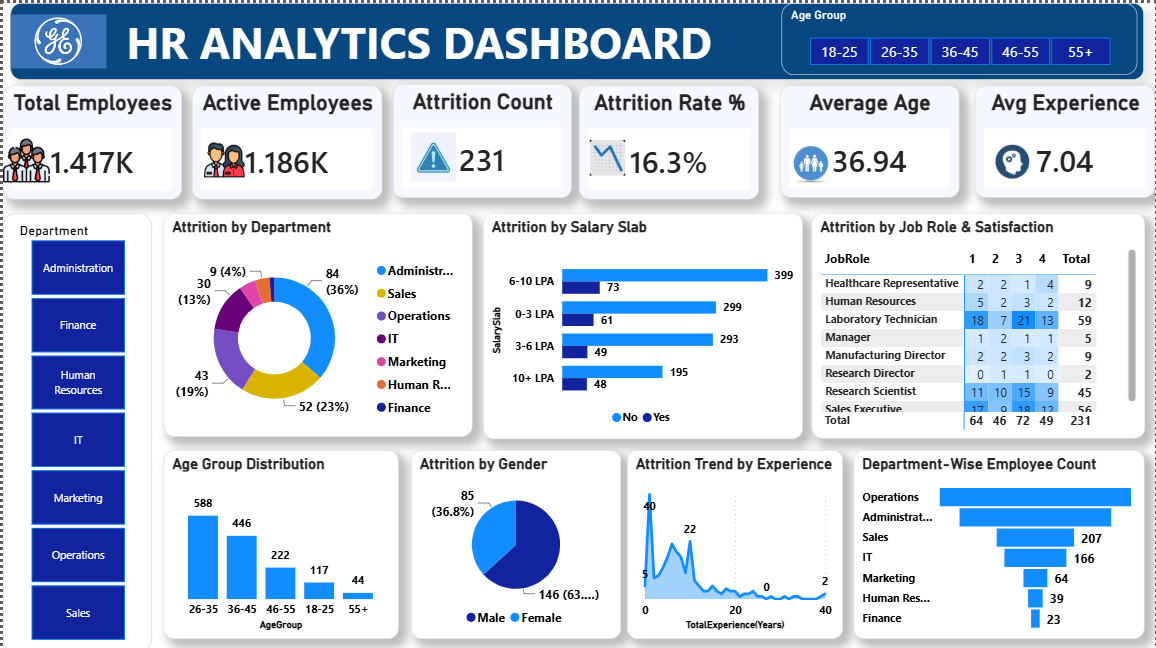

The page's visual inventory and layout, read from the dashboard file:
{"tool":"powerbi","page":{"name":"Page 1","canvas":[1280,720],"ordinal":0},"visuals":[{"type":"textbox","box":[8.3,0,1259,85],"z":0},{"type":"image","box":[8.3,0,106.7,85],"z":1000},{"type":"cardVisual","title":"Total Employees","fields":{"Data":["CountNonNull(HR_Analytics-4 (1).EmpID)"]},"box":[0,91.7,198.4,126.6],"z":2000},{"type":"cardVisual","title":"Active Employees","fields":{"Data":["CountNonNull(HR_Analytics-4 (1).EmployeeCount)"]},"box":[210,91.7,211.7,126.6],"z":3000},{"type":"cardVisual","title":"Attrition Count","fields":{"Data":["Sum(HR_Analytics-4 (1).AttritionCount)"]},"box":[433.3,90,198.4,126.6],"z":4000},{"type":"cardVisual","title":"Attrition Rate %","fields":{"Data":["HR_Analytics-4 (1).Attrition Rate %"]},"box":[640,91.7,200.3,126.6],"z":5000},{"type":"cardVisual","title":"Average Age","fields":{"Data":["Avg(HR_Analytics-4 (1).Age)"]},"box":[863.3,91.7,199.2,124.7],"z":6000},{"type":"cardVisual","title":"Avg Experience","fields":{"Data":["Avg(HR_Analytics-4 (1).YearsatCompany)"]},"box":[1080,91.7,200.3,124.7],"z":7000},{"type":"image","box":[0,148.3,51.8,53.4],"z":8000},{"type":"image","box":[453.3,140,50.2,61.5],"z":9000},{"type":"image","box":[650,151.7,43.7,40.5],"z":10000},{"type":"image","box":[223.3,145,45.3,58.3],"z":11000},{"type":"image","box":[873.3,148.3,48.3,61.7],"z":12000},{"type":"image","box":[1096.7,145,50.2,61.5],"z":13000},{"type":"donutChart","title":"Attrition by Department","fields":{"Category":["HR_Analytics-4 (1).Department"],"Y":["Sum(HR_Analytics-4 (1).AttritionCount)"]},"box":[178.3,233.3,343.3,248.3],"z":14000},{"type":"clusteredBarChart","title":"Attrition by Salary Slab","fields":{"Category":["HR_Analytics-4 (1).SalarySlab"],"Y":["CountNonNull(HR_Analytics-4 (1).EmpID)"],"Series":["HR_Analytics-4 (1).Attrition"]},"box":[533.3,233.3,355,251],"z":15000},{"type":"pivotTable","title":"Attrition by Job Role & Satisfaction","fields":{"Rows":["HR_Analytics-4 (1).JobRole"],"Values":["Sum(HR_Analytics-4 (1).AttritionCount)"],"Columns":["HR_Analytics-4 (1).JobSatisfaction"]},"box":[898.3,233.3,370.8,251],"z":16000},{"type":"columnChart","title":"Age Group Distribution","fields":{"Category":["HR_Analytics-4 (1).AgeGroup"],"Y":["Sum(HR_Analytics-4 (1).EmployeeCount)"]},"box":[178.3,496.7,261,210],"z":17000},{"type":"pieChart","title":"Attrition by Gender","fields":{"Category":["HR_Analytics-4 (1).Gender"],"Y":["Sum(HR_Analytics-4 (1).AttritionCount)"]},"box":[453.3,496.7,233.3,210],"z":18000},{"type":"areaChart","title":"Attrition Trend by Experience","fields":{"Category":["HR_Analytics-4 (1).TotalExperience(Years)"],"Y":["Sum(HR_Analytics-4 (1).AttritionCount)"]},"box":[693.3,496.7,240,210],"z":19000},{"type":"funnel","title":"Department-Wise Employee Count","fields":{"Category":["HR_Analytics-4 (1).Department"],"Y":["CountNonNull(HR_Analytics-4 (1).EmpID)"]},"box":[945,496.7,323.3,210],"z":20000},{"type":"slicer","fields":{"Values":["HR_Analytics-4 (1).Department"]},"box":[0,233.3,165,487],"z":21000},{"type":"slicer","fields":{"Values":["HR_Analytics-4 (1).Department"]},"box":[0,233,165,487],"z":21001},{"type":"slicer","title":"Age Group","fields":{"Values":["HR_Analytics-4 (1).AgeGroup"]},"box":[865,0,395,80],"z":21002}]}

Visuals, with their boxes in screenshot pixels (x1, y1, x2, y2), scaled from the page's 1280x720 canvas onto the 1156x648 screenshot:
textbox: detection(7, 0, 1145, 76)
image: detection(7, 0, 104, 76)
"Total Employees" cardVisual: detection(0, 83, 179, 196)
"Active Employees" cardVisual: detection(190, 83, 381, 196)
"Attrition Count" cardVisual: detection(391, 81, 571, 195)
"Attrition Rate %" cardVisual: detection(578, 83, 759, 196)
"Average Age" cardVisual: detection(780, 83, 960, 195)
"Avg Experience" cardVisual: detection(975, 83, 1155, 195)
image: detection(0, 133, 47, 182)
image: detection(409, 126, 455, 181)
image: detection(587, 137, 626, 173)
image: detection(202, 130, 243, 183)
image: detection(789, 133, 832, 189)
image: detection(990, 130, 1036, 186)
"Attrition by Department" donutChart: detection(161, 210, 471, 433)
"Attrition by Salary Slab" clusteredBarChart: detection(482, 210, 802, 436)
"Attrition by Job Role & Satisfaction" pivotTable: detection(811, 210, 1146, 436)
"Age Group Distribution" columnChart: detection(161, 447, 397, 636)
"Attrition by Gender" pieChart: detection(409, 447, 620, 636)
"Attrition Trend by Experience" areaChart: detection(626, 447, 843, 636)
"Department-Wise Employee Count" funnel: detection(853, 447, 1145, 636)
slicer - HR_Analytics-4 (1).Department: detection(0, 210, 149, 647)
slicer - HR_Analytics-4 (1).Department: detection(0, 210, 149, 647)
"Age Group" slicer: detection(781, 0, 1138, 72)
